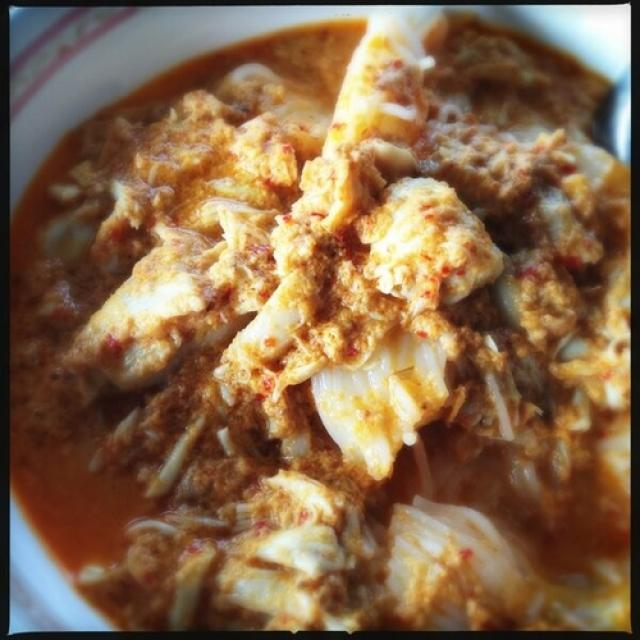面条主食: (11, 21, 624, 618)
